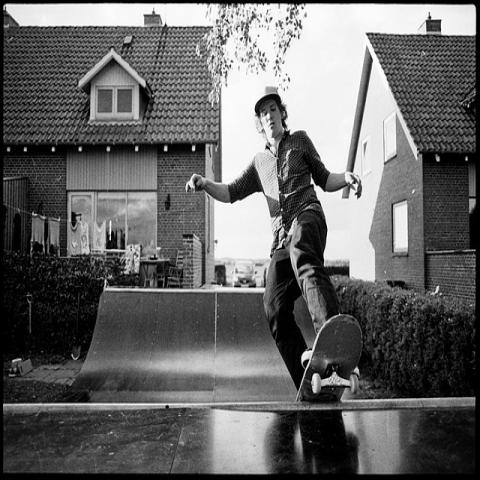car: (231, 261, 257, 288)
